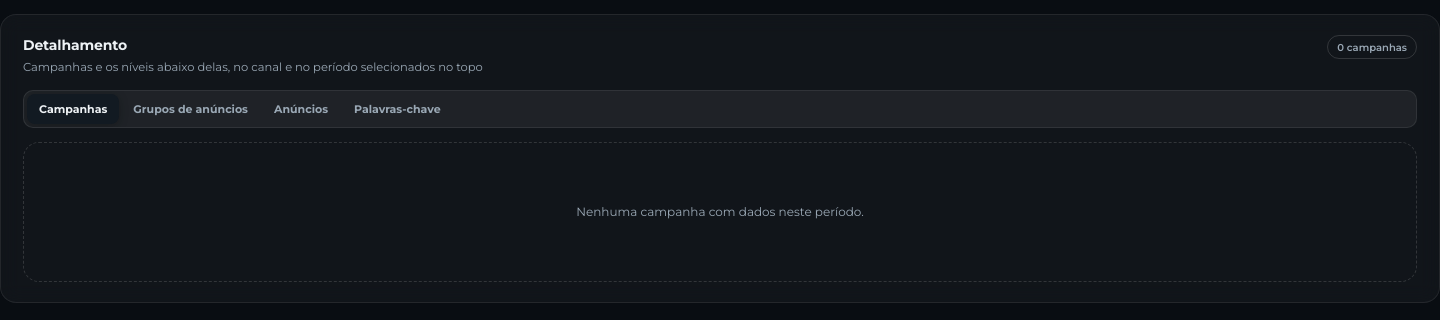
Test: Palavras-chave renderizam quando os dados chegam › Condomínios → Google Ads mostra só a keyword da campanha COND
Click the tab "Palavras-chave".
click(397, 109)  # box [342,94,453,124]
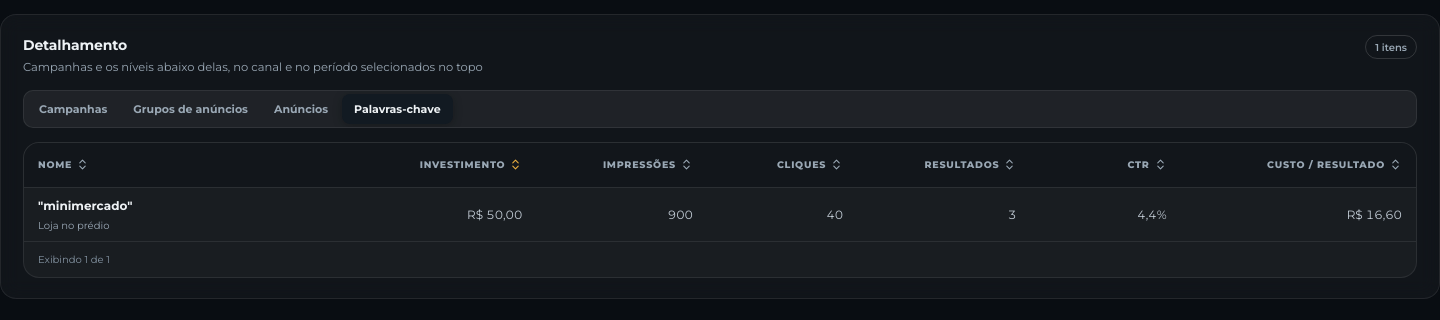
Result: the row "\"minimercado\" Loja no prédio R$ 50,00 900 40 3 4,4% R$ 16,60" is shown at [24,187,1416,241]
